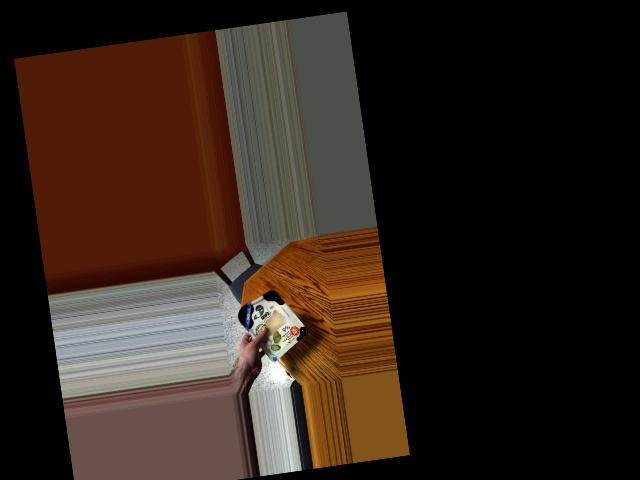cheese: (234, 281, 304, 356)
